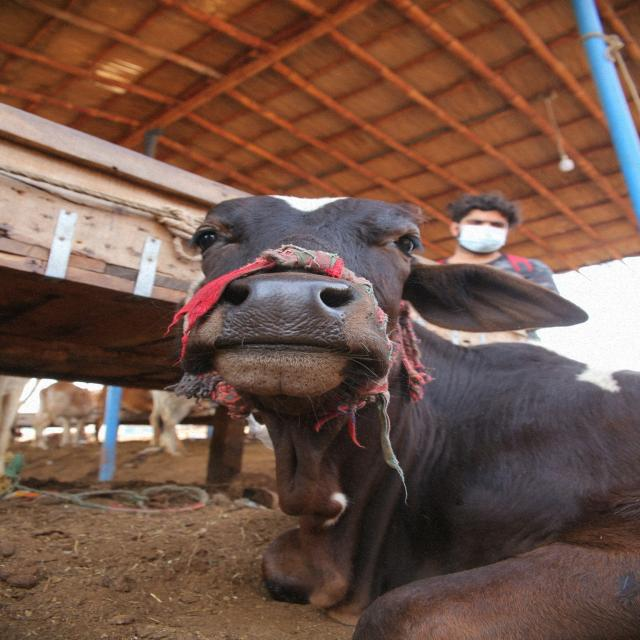muzzles: (206, 272, 368, 355)
